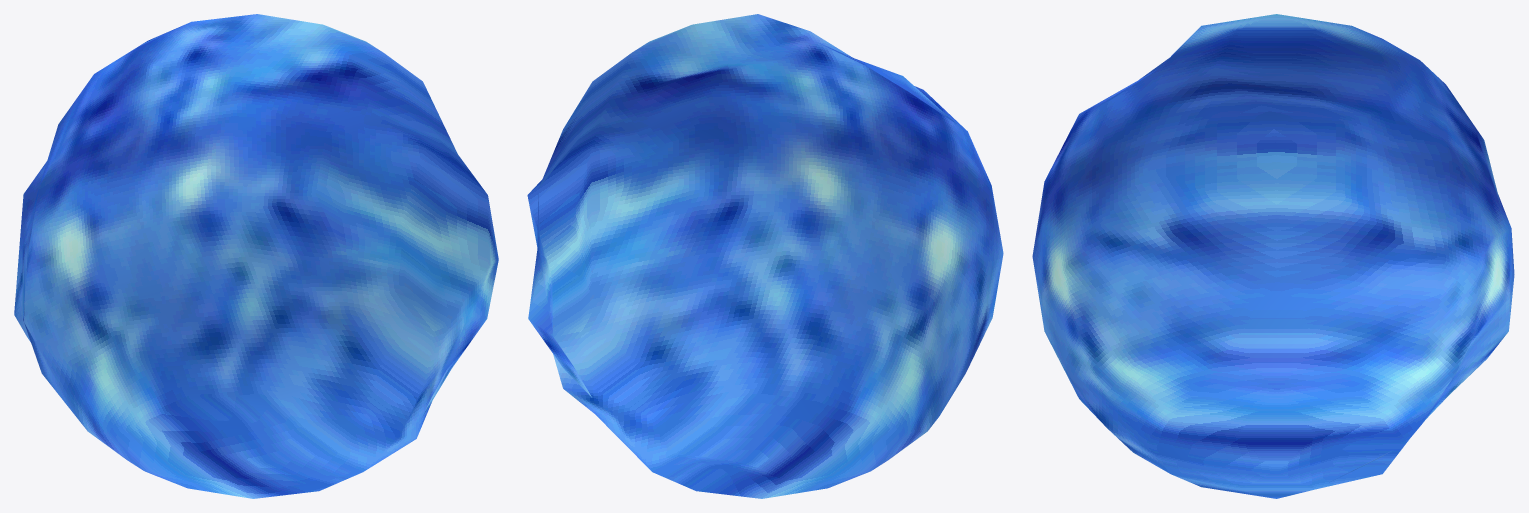
The model's file is ps2_save-icons_cavemanrock.glb.
3 views of the same model, side by side, from view 1: azimuth 30°, elevation 25°; view 2: azimuth 150°, elevation 25°; view 3: azimuth 270°, elevation 25° (orthographic).
Visible parts, largest first — view 1: ico.ico; view 2: ico.ico; view 3: ico.ico.
Boxes of the visible parts, left/top/right/bottom form: ico.ico: left=14, top=14, right=498, bottom=498; ico.ico: left=527, top=14, right=1003, bottom=498; ico.ico: left=1032, top=14, right=1514, bottom=498.
Bounding box in the file's own units: 4.88 × 4.77 × 4.94.
Materials: 1 (1 with a texture image).
